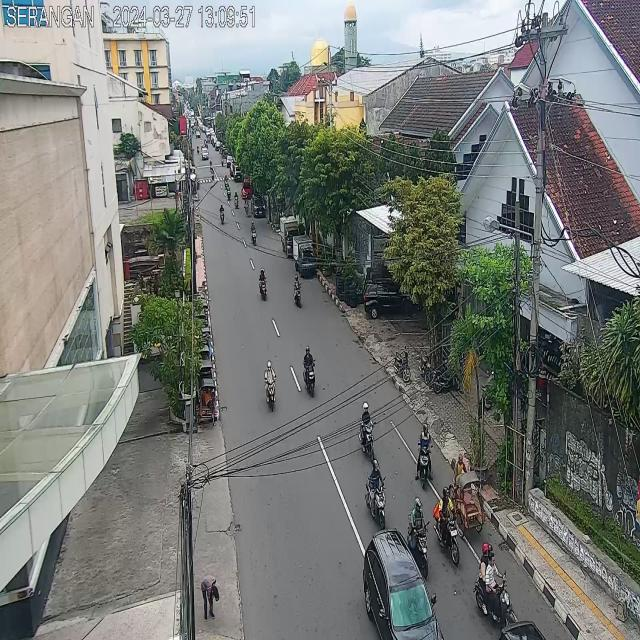car: (362, 528, 444, 640), (251, 195, 266, 218), (240, 182, 252, 200)
motorcycle: (474, 536, 517, 636), (432, 482, 463, 567), (405, 496, 432, 581), (362, 456, 389, 531), (356, 398, 379, 464), (416, 416, 433, 488), (302, 346, 317, 400), (264, 360, 278, 413), (258, 266, 268, 302), (292, 274, 302, 309), (250, 219, 257, 247), (220, 202, 225, 225), (226, 184, 232, 202), (234, 190, 238, 210)
truck: (292, 235, 316, 278), (280, 216, 300, 259)
